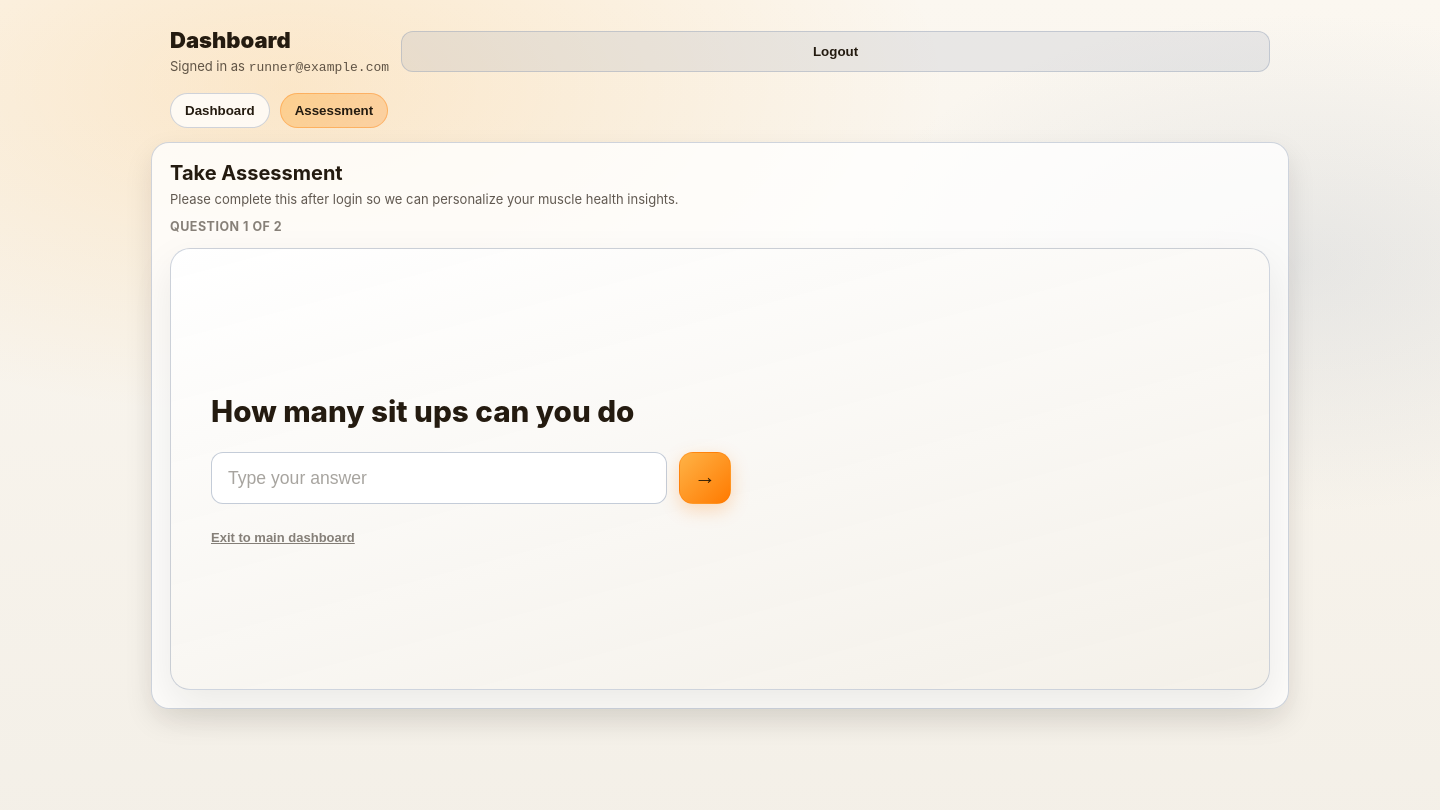
Test case: App (authenticated) › submits assessment and shows results message, then can exit to dashboard
Expected: the heading "Take Assessment" is shown, top-left (170, 161), bottom-right (343, 185)
In the number field with placeholder "Type your answer": (439, 478) top-left (211, 452), bottom-right (667, 504), type "20"
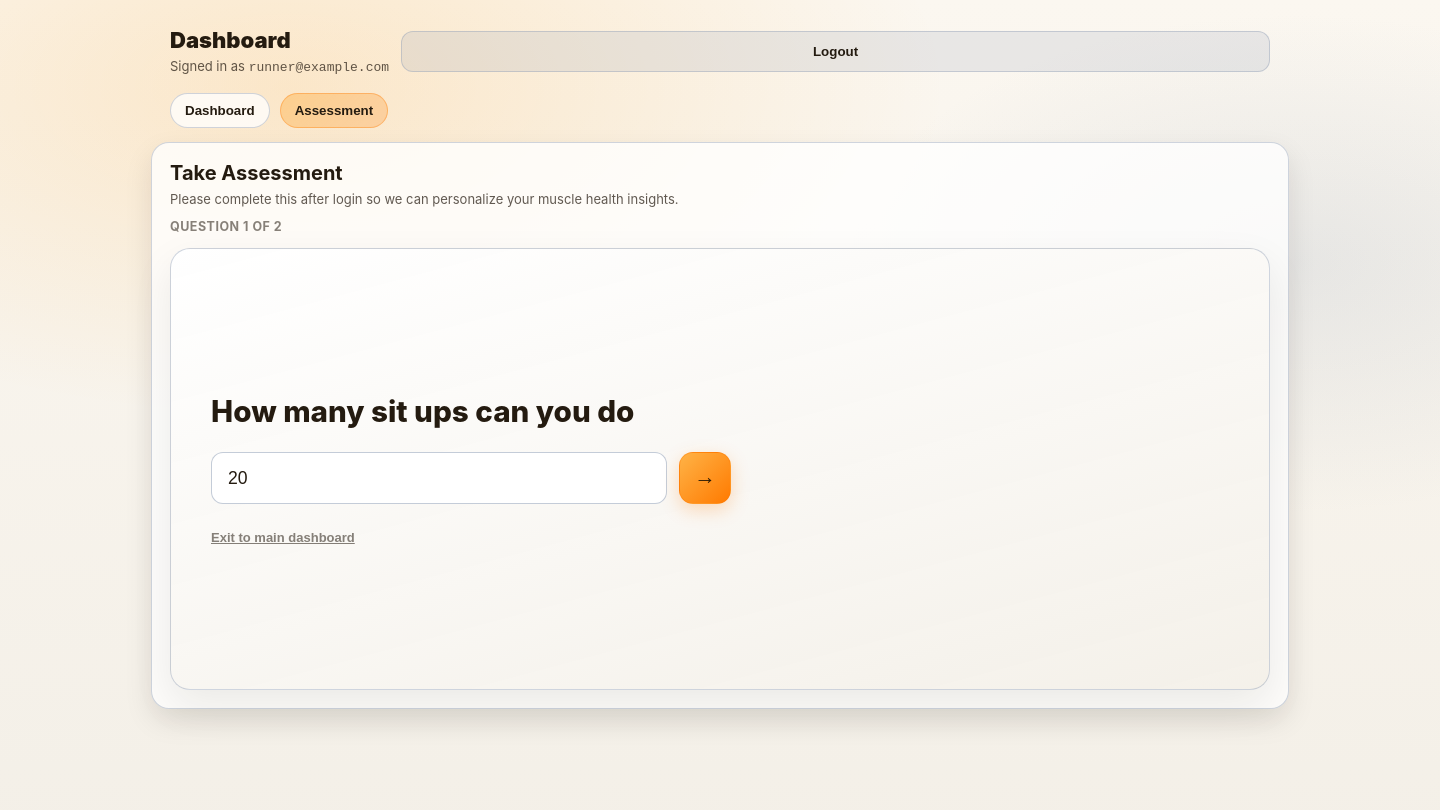
Click the button named "continue to next question": click(705, 478) top-left (679, 452), bottom-right (731, 504)
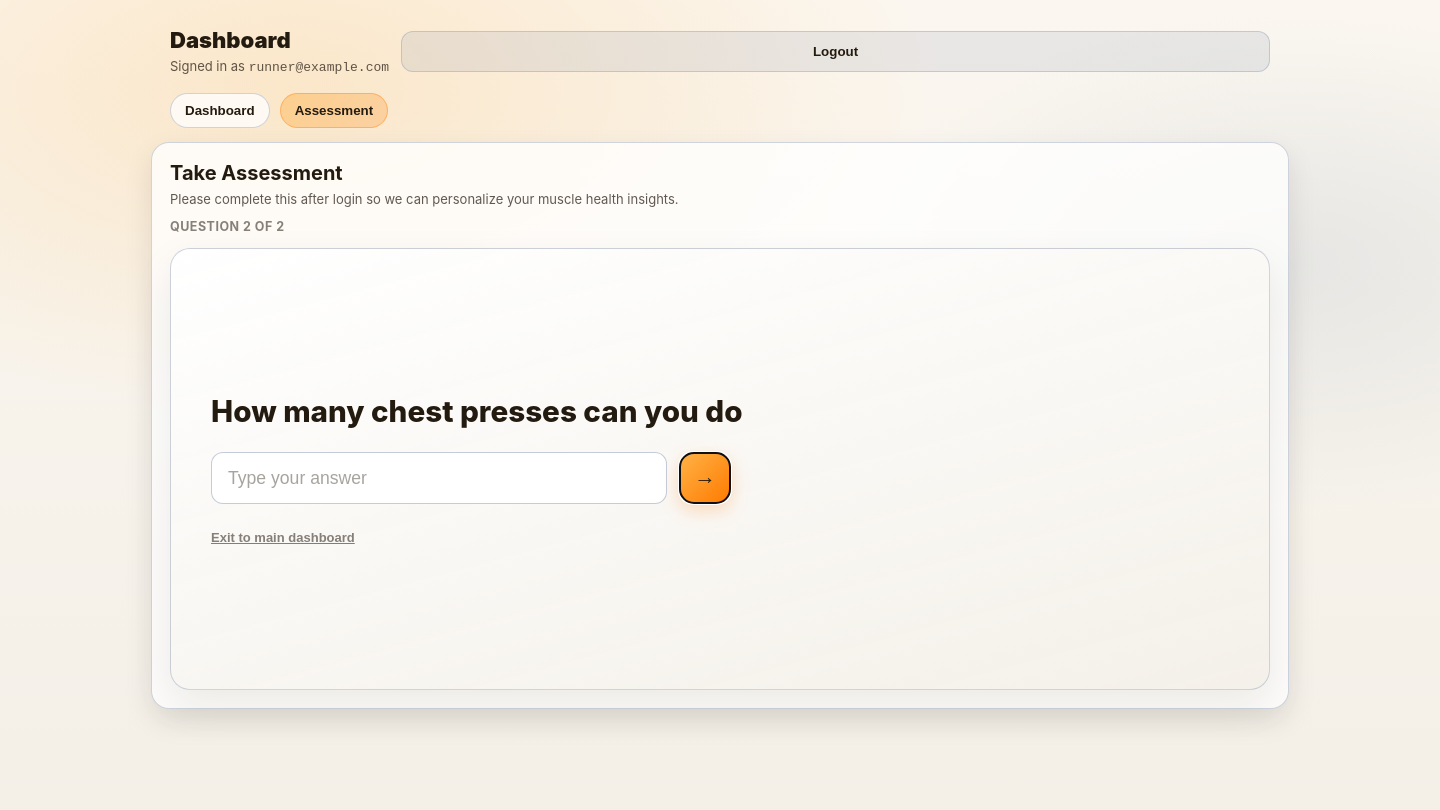
Result: the heading "How many chest presses can you do" is shown at top-left (211, 393), bottom-right (784, 430)
Result: the text "Question 2 of 2" is shown at top-left (170, 219), bottom-right (285, 234)
In the number field with placeholder "Type your answer": (439, 478) top-left (211, 452), bottom-right (667, 504), type "12"
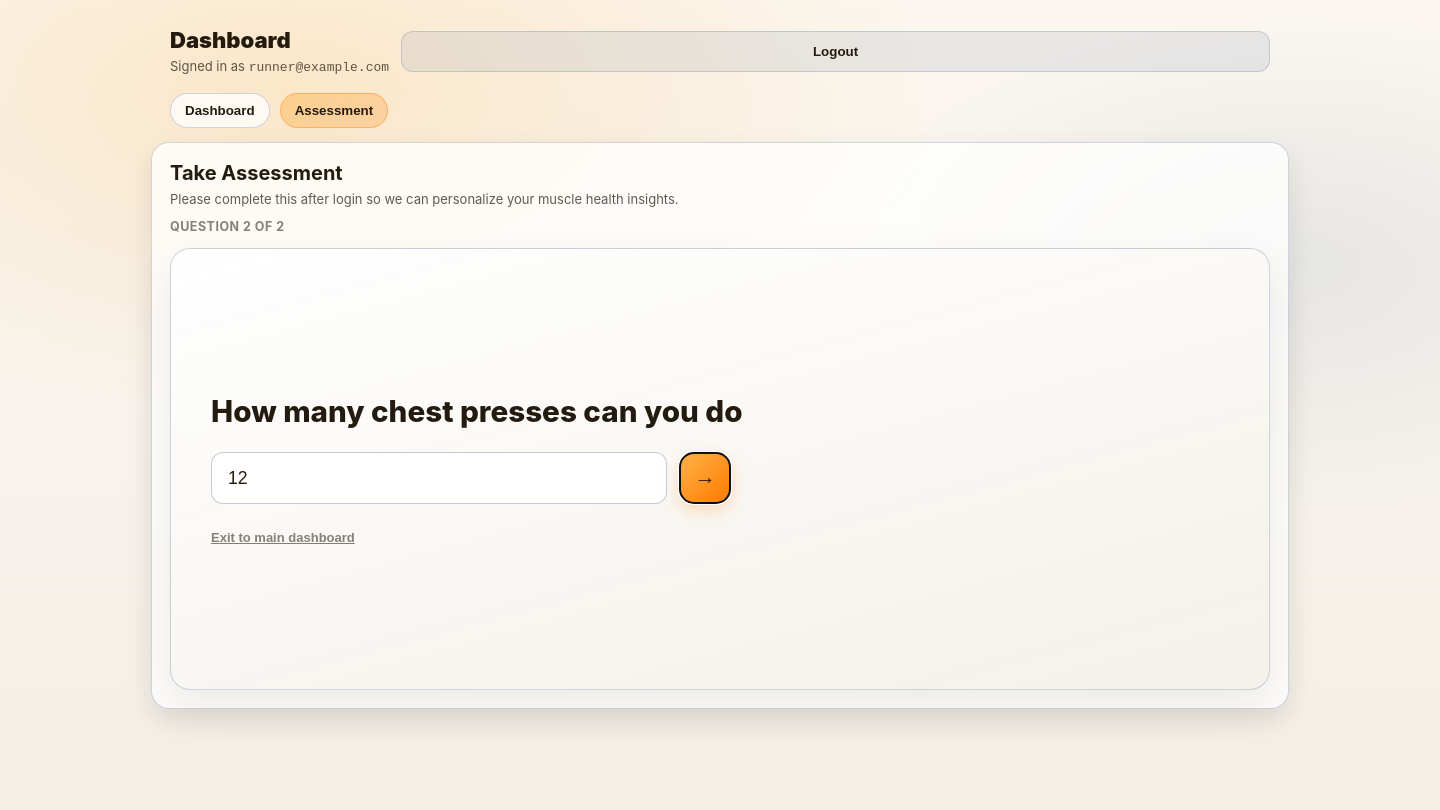
Click the button named "submit assessment": click(705, 478) top-left (679, 452), bottom-right (731, 504)
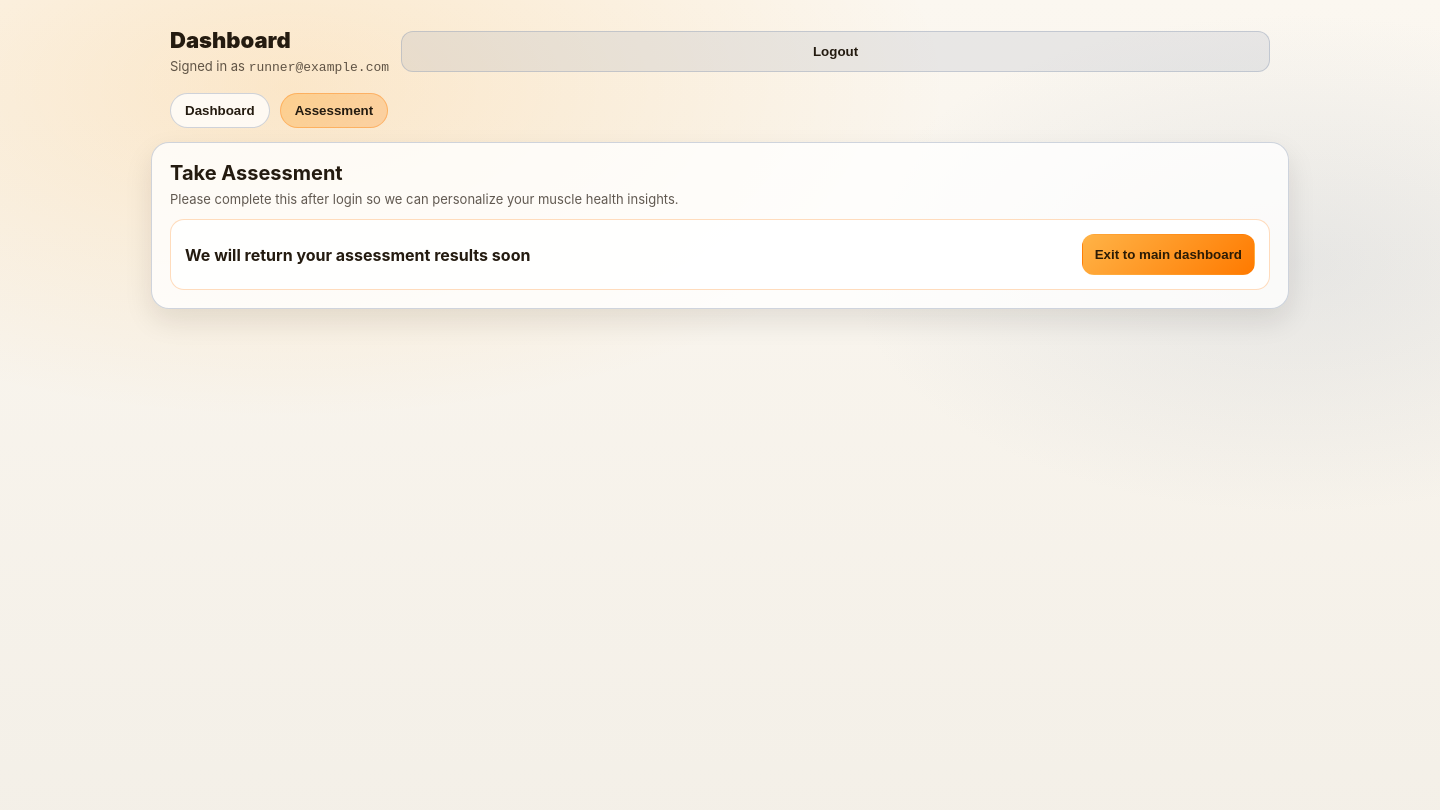
Result: the text "We will return your assessment results soon" is shown at top-left (185, 245), bottom-right (530, 265)
Click the button "Exit to main dashboard": click(1168, 255) top-left (1082, 234), bottom-right (1255, 275)
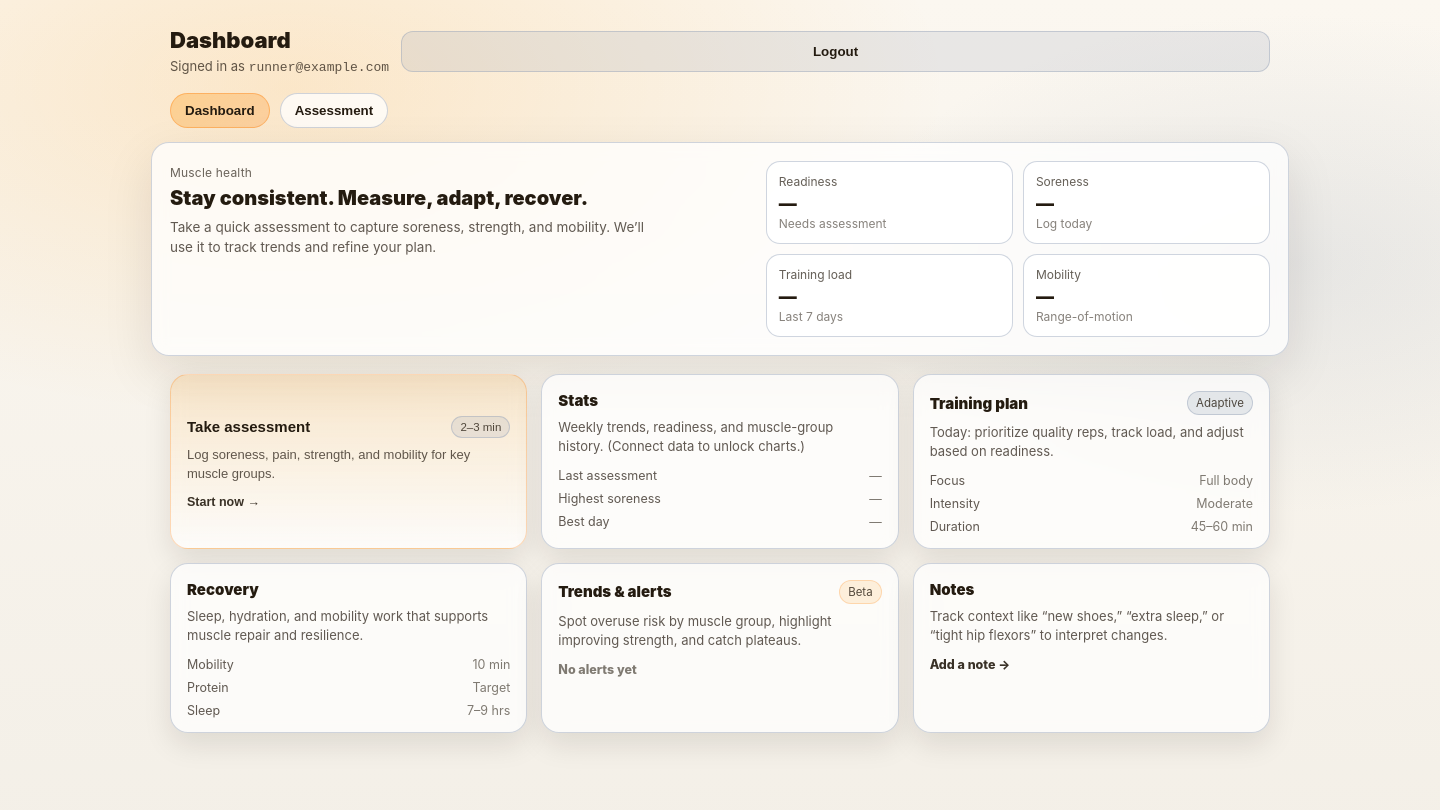
Result: the text "Stay consistent. Measure, adapt, recover." is shown at top-left (170, 186), bottom-right (588, 210)
